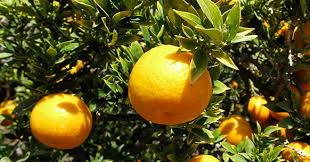orange: (124, 47, 217, 127), (28, 94, 93, 147)
